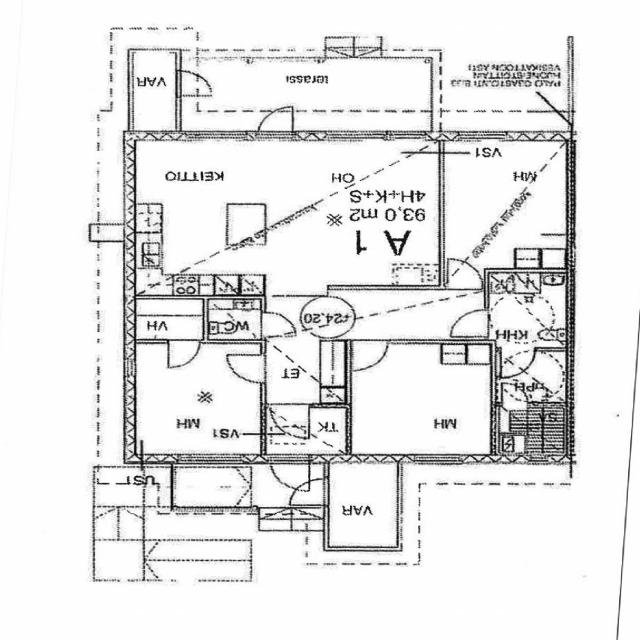door: (270, 454, 310, 494), (271, 403, 309, 437), (259, 104, 293, 140), (353, 340, 388, 371), (500, 347, 535, 378), (447, 258, 482, 289), (226, 355, 266, 382), (291, 478, 328, 504), (451, 310, 488, 336), (168, 339, 200, 368), (176, 71, 212, 95), (261, 313, 295, 337), (502, 381, 528, 407)
